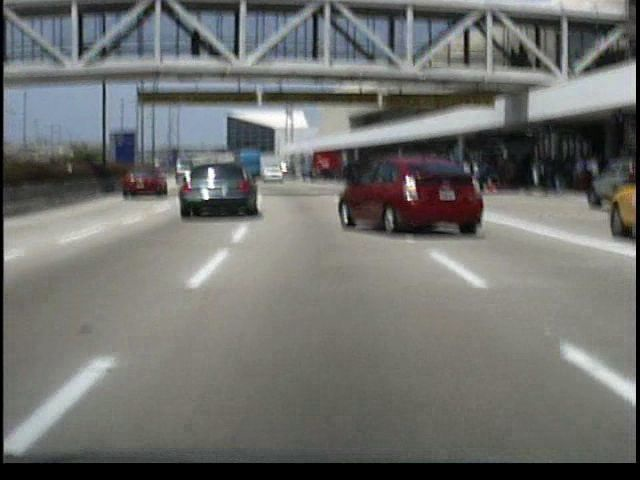person: (190, 29, 206, 59)
